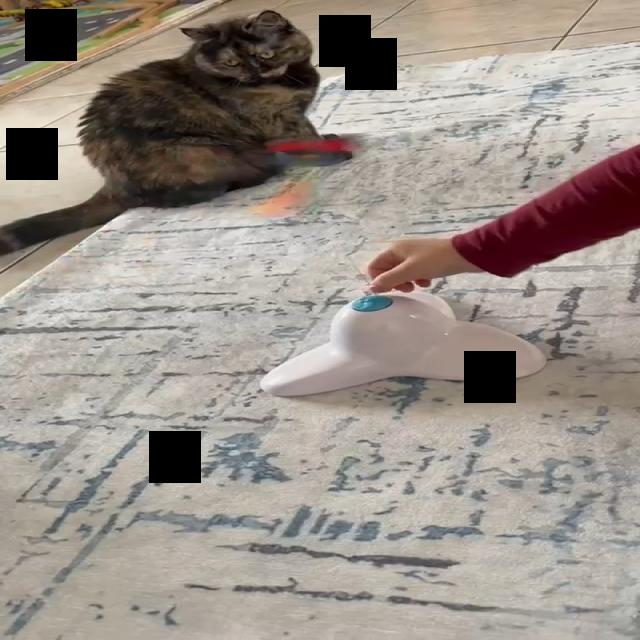authorized: (0, 9, 339, 257)
